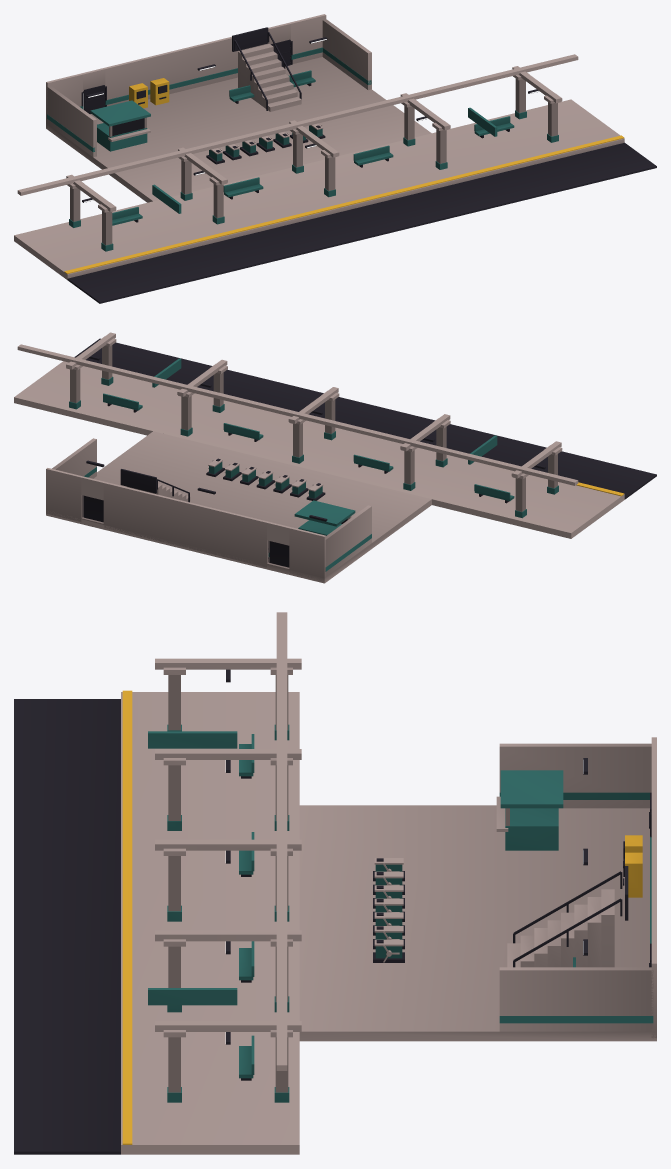
3 renders of one model, top to bottom at view 1: azimuth 30°, elevation 25°; view 2: azimuth 150°, elevation 25°; view 3: azimuth 270°, elevation 25°, orthographic. The views are drawn at different scales.
Visible parts, largest first — view 1: body_pal_sidewalk, body_pal_uiDark, body_pal_backpackTeal, roof_pal_sidewalk, body_pal_schoolBusYellow, maintenanceDoorA_pal_uiDark; view 2: body_pal_sidewalk, body_pal_uiDark, roof_pal_sidewalk, body_pal_backpackTeal, maintenanceDoorB_pal_uiDark, maintenanceDoorA_pal_uiDark; view 3: body_pal_sidewalk, body_pal_uiDark, body_pal_backpackTeal, roof_pal_sidewalk, body_pal_schoolBusYellow.
Part boxes in pixels (x1=…): body_pal_sidewalk: x1=14, y1=14, x2=624, y2=279; body_pal_uiDark: x1=67, y1=27, x2=656, y2=303; body_pal_backpackTeal: x1=47, y1=47, x2=558, y2=251; roof_pal_sidewalk: x1=17, y1=54, x2=578, y2=211; body_pal_schoolBusYellow: x1=64, y1=78, x2=624, y2=274; maintenanceDoorA_pal_uiDark: x1=83, y1=85, x2=104, y2=113; body_pal_sidewalk: x1=14, y1=336, x2=624, y2=583; body_pal_uiDark: x1=74, y1=338, x2=656, y2=561; roof_pal_sidewalk: x1=17, y1=332, x2=578, y2=485; body_pal_backpackTeal: x1=69, y1=358, x2=558, y2=571; maintenanceDoorB_pal_uiDark: x1=83, y1=495, x2=103, y2=522; maintenanceDoorA_pal_uiDark: x1=269, y1=541, x2=289, y2=567; body_pal_sidewalk: x1=121, y1=667, x2=656, y2=1154; body_pal_uiDark: x1=14, y1=669, x2=651, y2=1154; body_pal_backpackTeal: x1=148, y1=724, x2=653, y2=1102; roof_pal_sidewalk: x1=155, y1=612, x2=301, y2=1070; body_pal_schoolBusYellow: x1=122, y1=690, x2=642, y2=1144.
Bounding box in the file's own units: 60 × 5.75 × 36.
